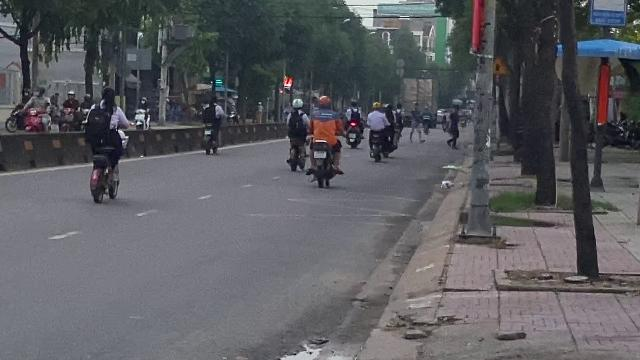motorcyclist: (81, 81, 129, 203)
nohelmet: (98, 86, 116, 103)
